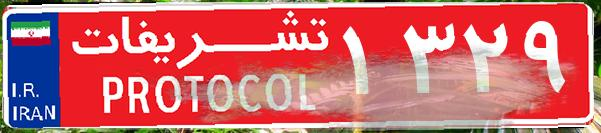1: (340, 20, 400, 115)
2: (460, 20, 520, 115)
3: (400, 20, 460, 115)
9: (520, 20, 580, 115)
تشریفات: (60, 8, 340, 125)
